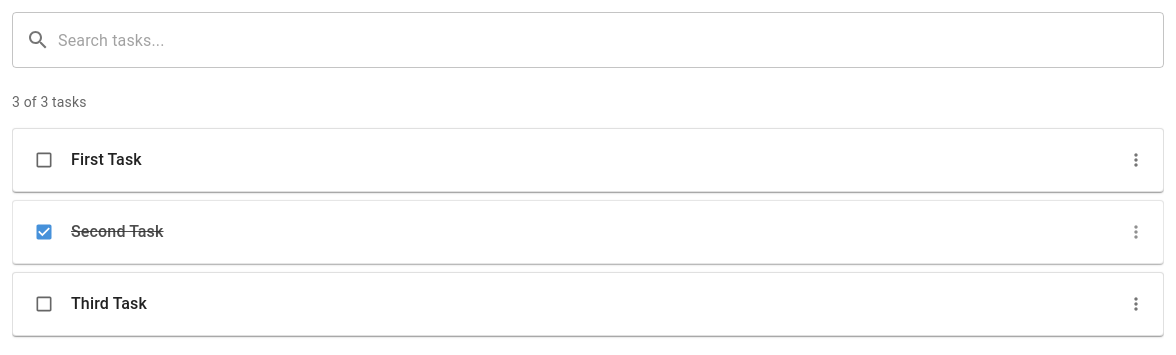
Scenario: TaskList › should search in both title and description
Type "Description" into the field with placeholder "Search tasks...".
click(611, 40); type("Description")  # box [58,12,1164,68]
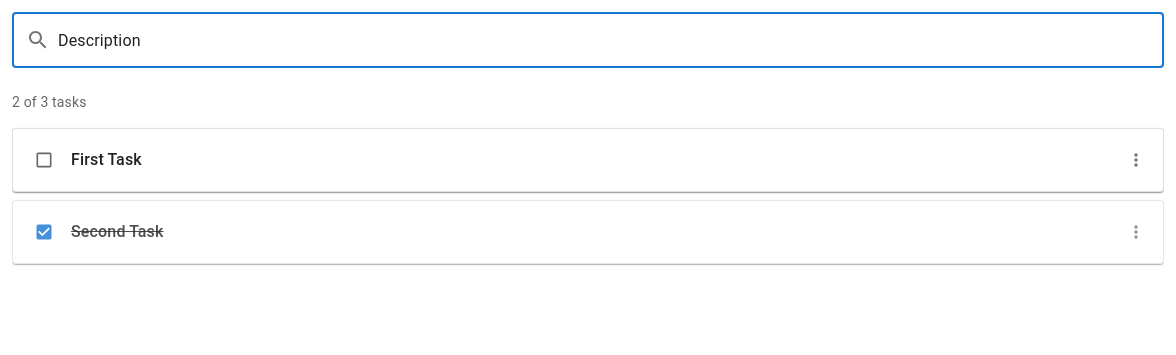
Check: the heading "First Task" is shown, box [71,150,142,169]
Check: the text "2 of 3 tasks" is shown, box [12,94,87,110]
Check: the heading "Third Task" is gone
